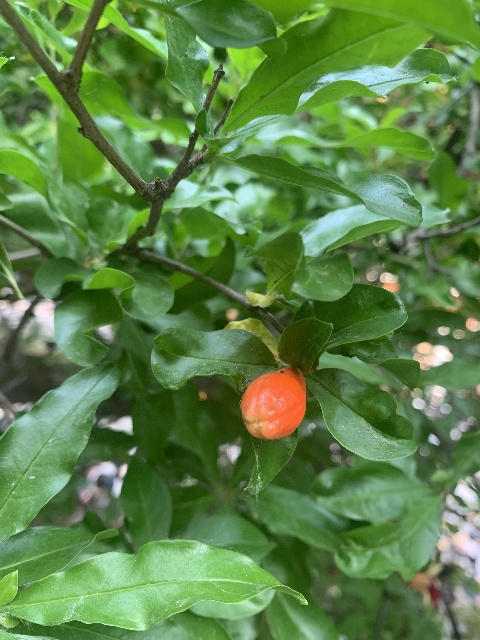bud: (240, 367, 306, 440)
